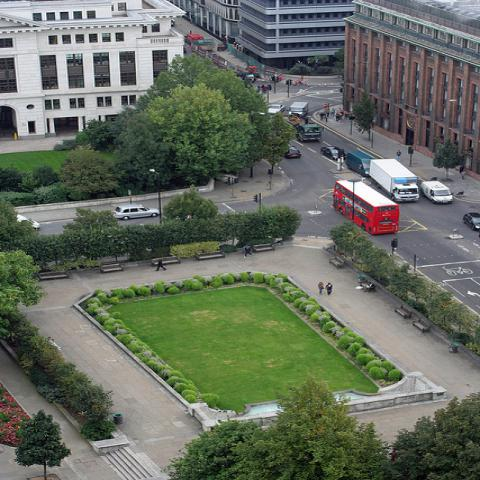bus: (331, 178, 400, 236)
car: (113, 203, 160, 221), (419, 181, 454, 203), (346, 151, 374, 177), (320, 146, 347, 160), (16, 214, 40, 228), (462, 212, 479, 230), (284, 144, 302, 158), (268, 104, 285, 115)
truck: (368, 158, 419, 202), (282, 114, 322, 142), (348, 150, 374, 179), (288, 102, 310, 117)
